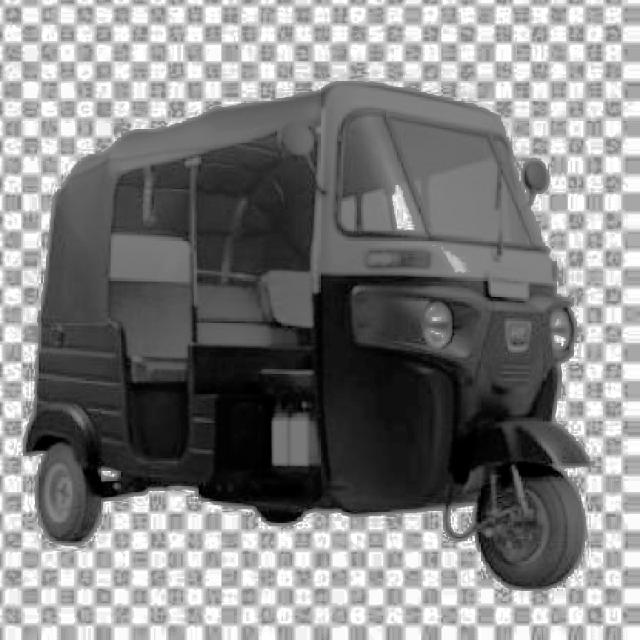Auto-Rickshaw: (17, 86, 585, 608)
